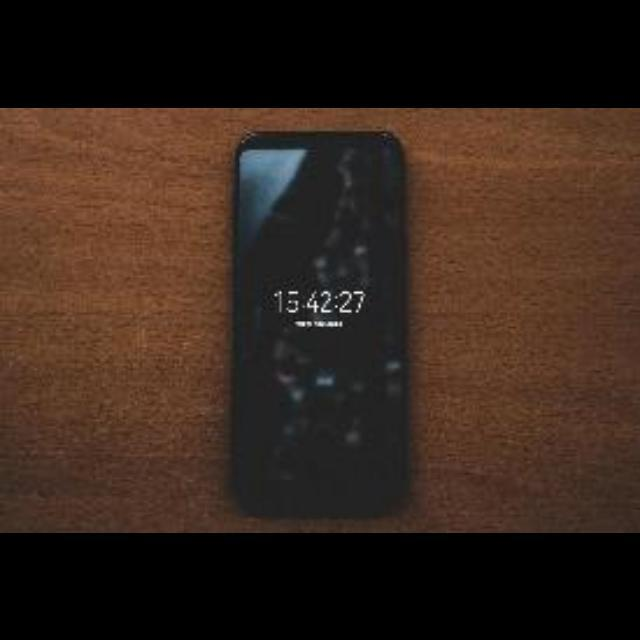phone: (230, 136, 414, 522)
